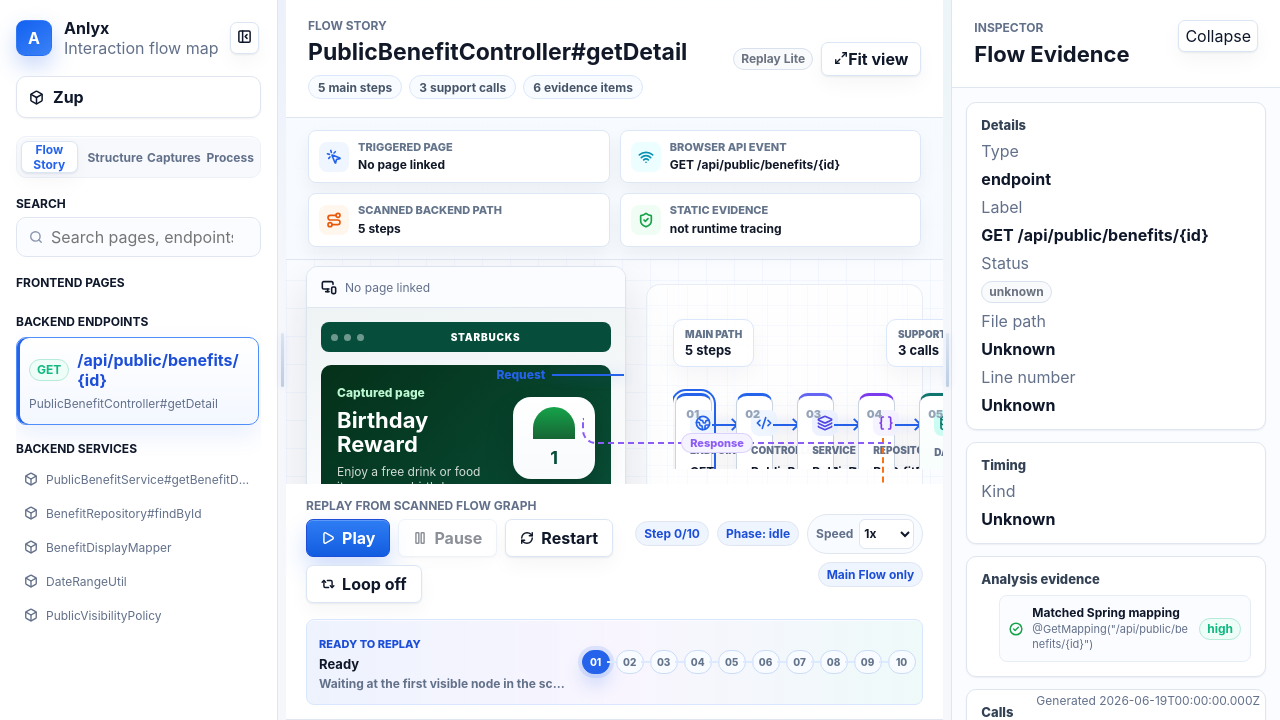
Test: Captures view › empty page list shows empty state
The image size is (1280, 720).
Click the button "Captures" at coordinates (168, 157), box [140, 141, 196, 173]
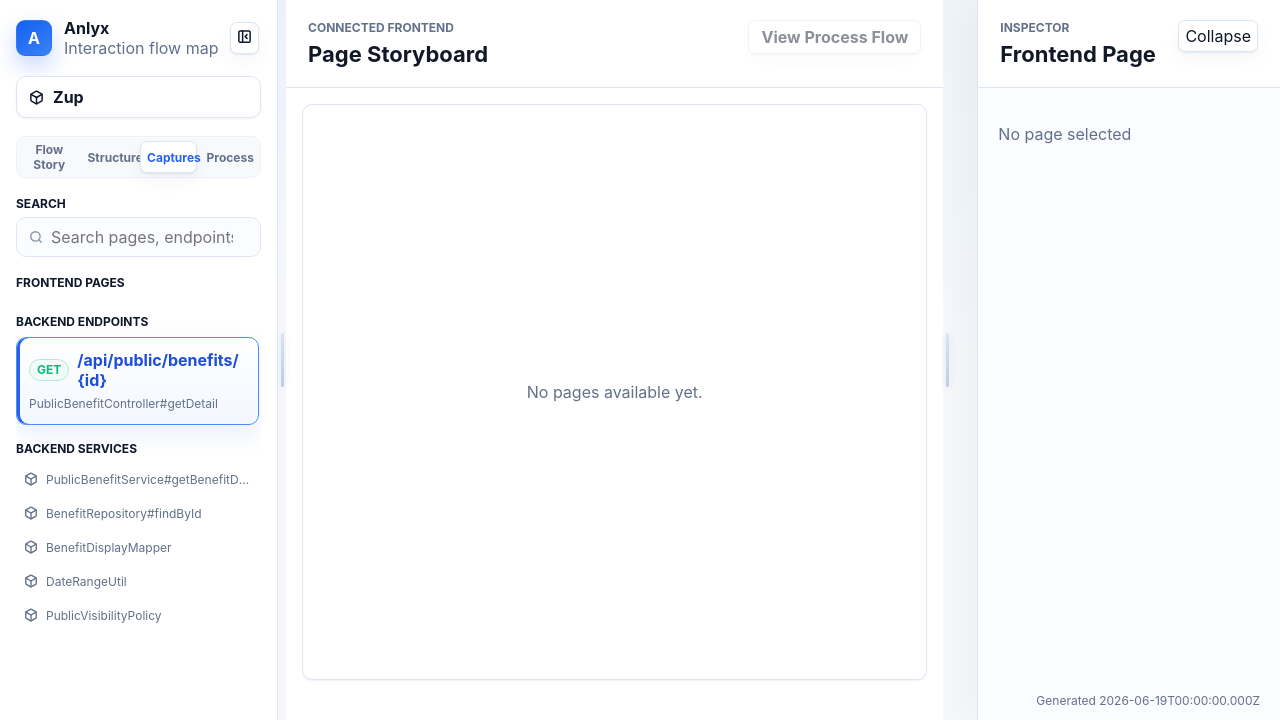
Expected: the text "No pages available yet." is shown, [527, 382, 703, 402]
